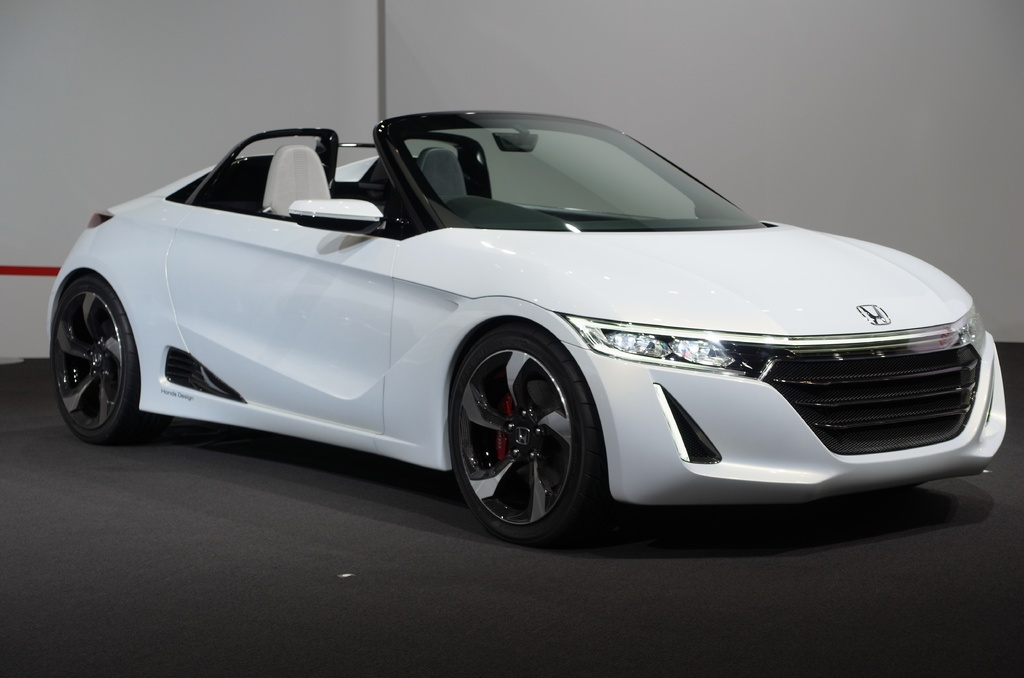Car: (39, 106, 1002, 532)
